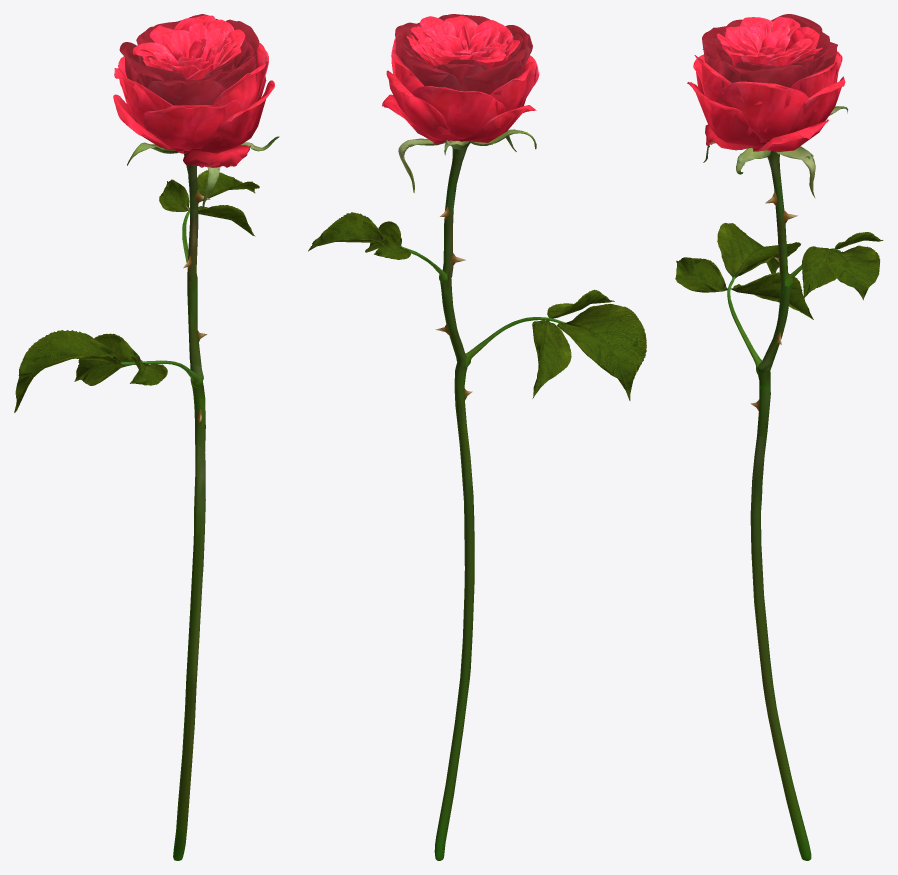
Rendered from gul-kirmizi.glb.
3 views of the same model, side by side, from view 1: azimuth 30°, elevation 25°; view 2: azimuth 150°, elevation 25°; view 3: azimuth 270°, elevation 25° (orthographic). The views are drawn at different scales.
Visible parts, largest first — view 1: stem_001_stem_006_004.001_stem_0, petal_034_petal_166_004.001_6-1max_0, leaf_001_leaf_010_004.001_leaf_0, petal_001_5p_petal_001_006_004.001_(5)1-1max_0, petal_011_petal_140_004.001_4-1max_0, petal_001_petal_165_004.001_2-1max_0, petal_044_petal_176_004.001_7-1max ending_0, petal_041_petal_159_004.001_7-1max_0, stem_002_1_stem_007_004.001_stem-S_0; view 2: leaf_001_leaf_010_004.001_leaf_0, stem_001_stem_006_004.001_stem_0, petal_034_petal_166_004.001_6-1max_0, petal_001_5p_petal_001_006_004.001_(5)1-1max_0, petal_011_petal_140_004.001_4-1max_0, petal_001_petal_165_004.001_2-1max_0, petal_041_petal_159_004.001_7-1max_0, stem_002_1_stem_007_004.001_stem-S_0; view 3: stem_001_stem_006_004.001_stem_0, leaf_001_leaf_010_004.001_leaf_0, petal_034_petal_166_004.001_6-1max_0, petal_001_5p_petal_001_006_004.001_(5)1-1max_0, petal_011_petal_140_004.001_4-1max_0, petal_001_petal_165_004.001_2-1max_0, petal_041_petal_159_004.001_7-1max_0, stem_002_1_stem_007_004.001_stem-S_0.
Boxes of the visible parts, <box> form: stem_001_stem_006_004.001_stem_0: <box>127,136,279,860</box>; petal_034_petal_166_004.001_6-1max_0: <box>114,43,274,152</box>; leaf_001_leaf_010_004.001_leaf_0: <box>14,170,259,412</box>; petal_001_5p_petal_001_006_004.001_(5)1-1max_0: <box>119,14,259,105</box>; petal_011_petal_140_004.001_4-1max_0: <box>132,15,245,79</box>; petal_001_petal_165_004.001_2-1max_0: <box>148,23,231,69</box>; petal_044_petal_176_004.001_7-1max ending_0: <box>183,145,250,168</box>; petal_041_petal_159_004.001_7-1max_0: <box>113,94,192,153</box>; stem_002_1_stem_007_004.001_stem-S_0: <box>119,210,203,387</box>; leaf_001_leaf_010_004.001_leaf_0: <box>308,212,646,400</box>; stem_001_stem_006_004.001_stem_0: <box>398,129,536,860</box>; petal_034_petal_166_004.001_6-1max_0: <box>386,38,539,141</box>; petal_001_5p_petal_001_006_004.001_(5)1-1max_0: <box>395,14,532,94</box>; petal_011_petal_140_004.001_4-1max_0: <box>406,15,519,68</box>; petal_001_petal_165_004.001_2-1max_0: <box>423,21,508,56</box>; petal_041_petal_159_004.001_7-1max_0: <box>382,94,536,144</box>; stem_002_1_stem_007_004.001_stem-S_0: <box>399,245,565,367</box>; stem_001_stem_006_004.001_stem_0: <box>703,106,847,860</box>; leaf_001_leaf_010_004.001_leaf_0: <box>675,223,883,319</box>; petal_034_petal_166_004.001_6-1max_0: <box>687,51,845,146</box>; petal_001_5p_petal_001_006_004.001_(5)1-1max_0: <box>702,14,837,87</box>; petal_011_petal_140_004.001_4-1max_0: <box>716,16,822,67</box>; petal_001_petal_165_004.001_2-1max_0: <box>727,20,806,56</box>; petal_041_petal_159_004.001_7-1max_0: <box>752,119,828,151</box>; stem_002_1_stem_007_004.001_stem-S_0: <box>727,248,840,374</box>.
Size of the model in its own units: 0.171 by 0.4734 by 0.1086.
10 materials, 10 textured.
